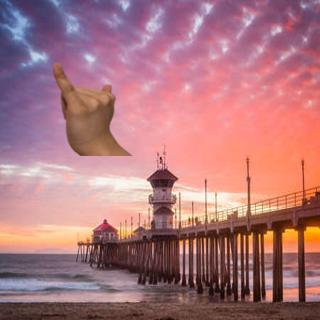HAVE: (45, 58, 121, 150)
